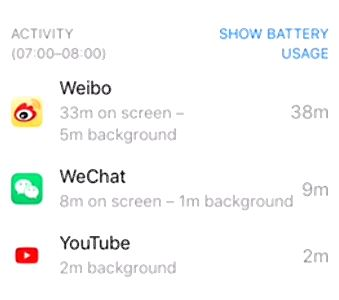activity: (5, 20, 114, 63)
app: (4, 77, 335, 153), (2, 162, 337, 219), (2, 230, 335, 277)
